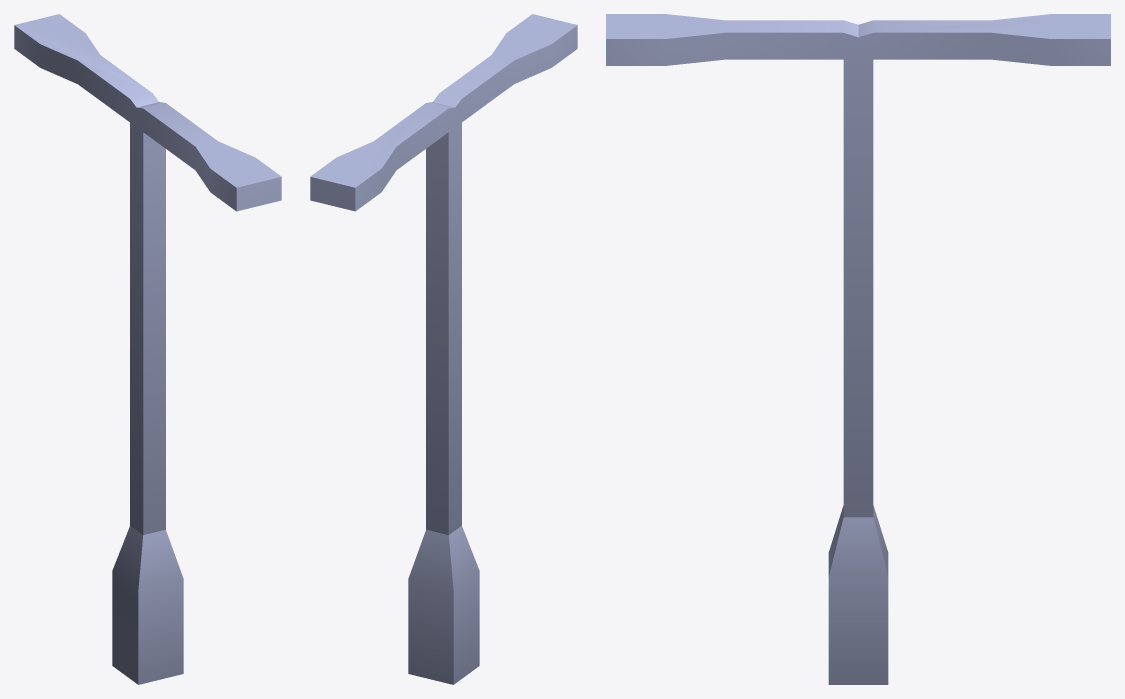
The model's file is light-square-double.glb.
The picture shows the model from 3 angles, left to right: view 1: azimuth 30°, elevation 25°; view 2: azimuth 150°, elevation 25°; view 3: azimuth 270°, elevation 25°; orthographic projection. The views are drawn at different scales.
Parts seen in each view (by area): view 1: light-square-double; view 2: light-square-double; view 3: light-square-double.
Boxes of the visible parts, left/top/right/bottom form: light-square-double: left=14, top=14, right=281, bottom=684; light-square-double: left=310, top=14, right=577, bottom=684; light-square-double: left=606, top=14, right=1110, bottom=684.
Bounding box in the file's own units: 0.05 × 0.6 × 0.425.
Materials: 1 (1 with a texture image).
